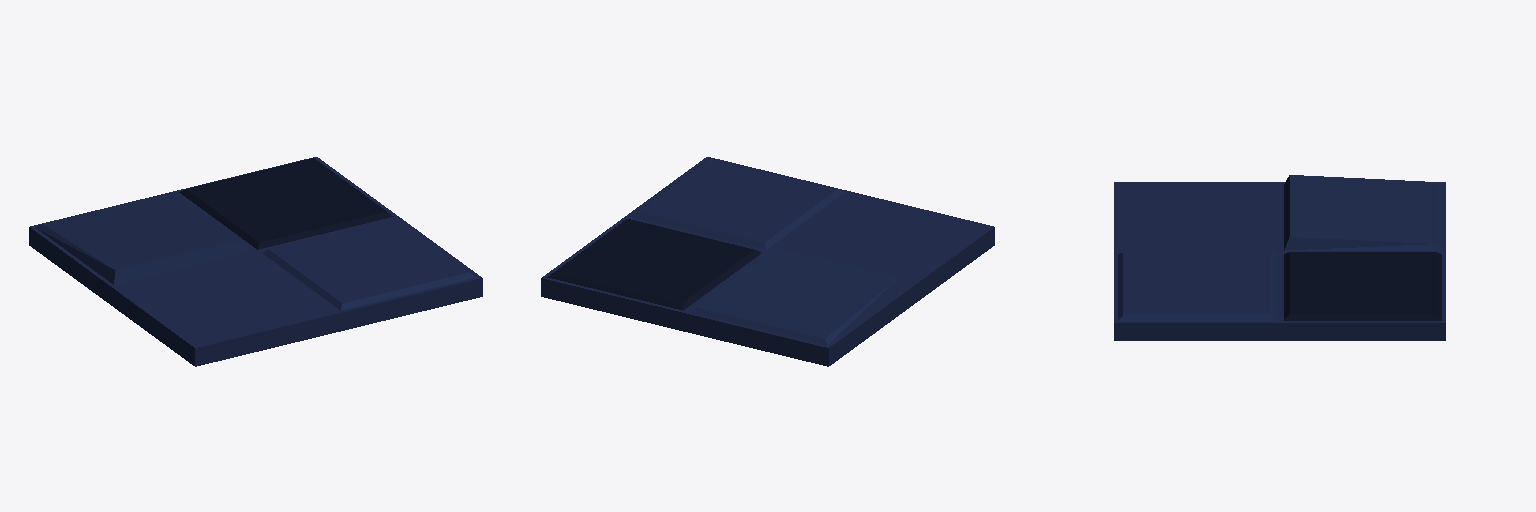
The model's file is tile6.obj.
3 renders of one model, left to right at view 1: azimuth 30°, elevation 25°; view 2: azimuth 150°, elevation 25°; view 3: azimuth 270°, elevation 25°, orthographic.
Parts seen in each view (by area): view 1: floor.006_dark_grey_0; view 2: floor.006_dark_grey_0; view 3: floor.006_dark_grey_0.
Part boxes in pixels (left/top/right/bottom): floor.006_dark_grey_0: left=29, top=157, right=482, bottom=366; floor.006_dark_grey_0: left=541, top=157, right=994, bottom=366; floor.006_dark_grey_0: left=1114, top=175, right=1445, bottom=340.
Size of the model in its own units: 1 by 0.1 by 1.